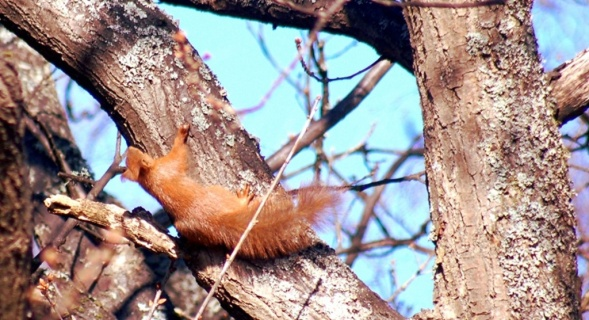Squirrel: (119, 118, 353, 258)
